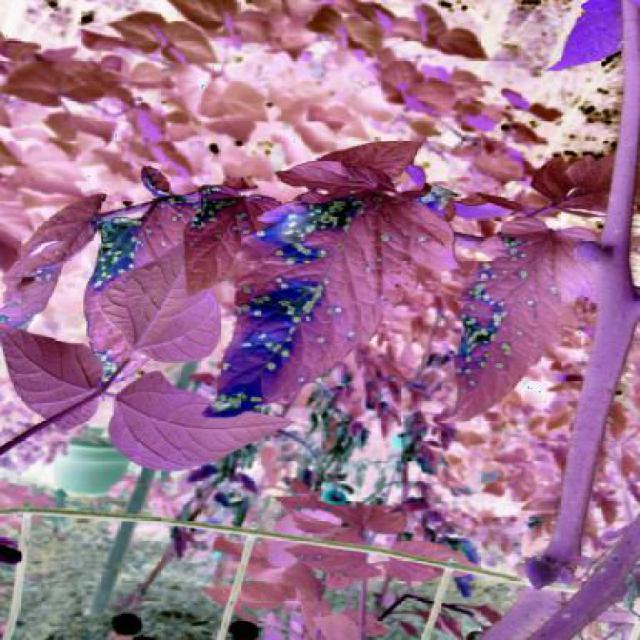Tomato Septoria spot leaf: (203, 194, 420, 418), (442, 216, 576, 416), (190, 189, 252, 305)
Tomato bacterial spot leaf: (1, 322, 104, 432)
